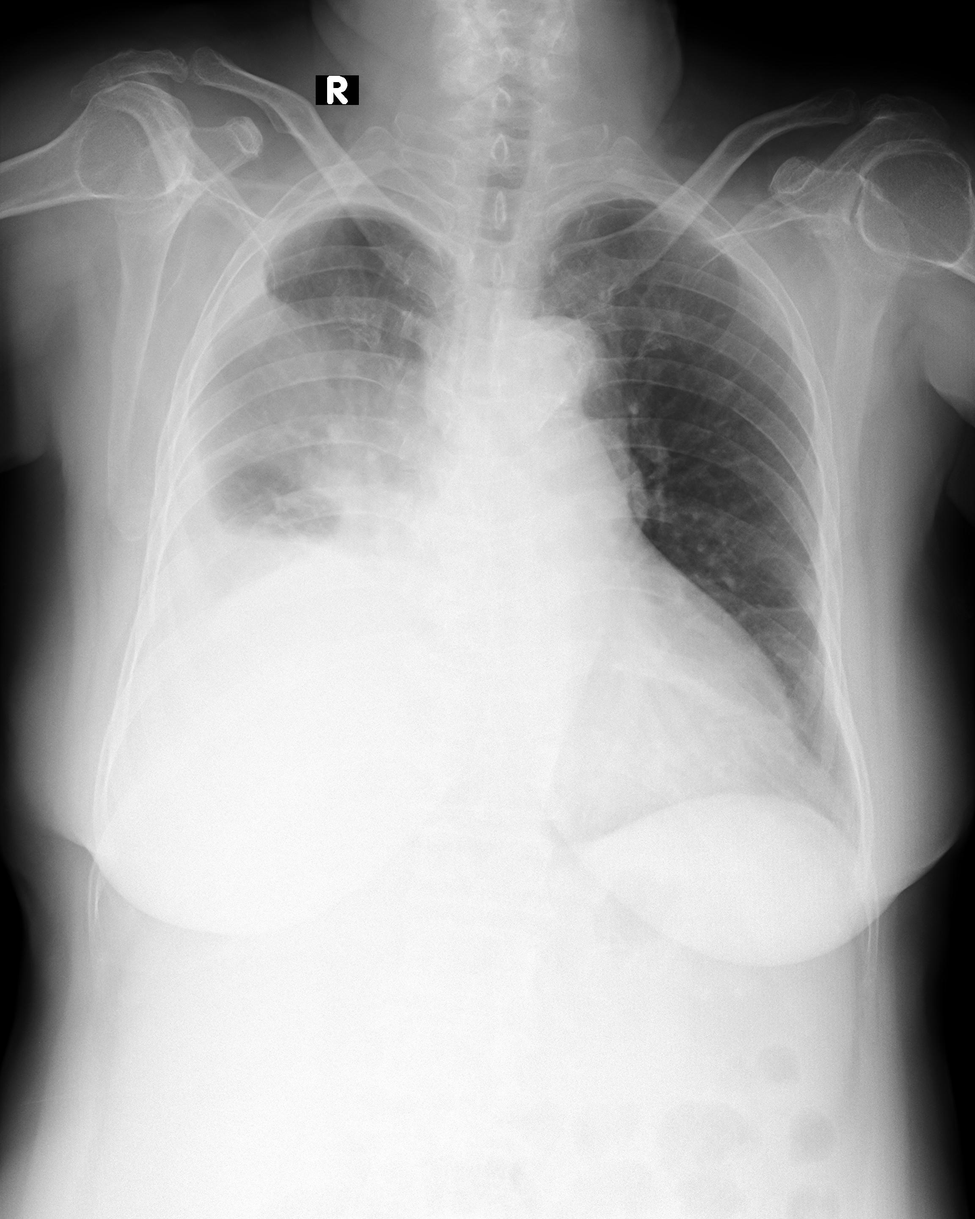Aortic enlargement: (491, 314, 636, 491)
Cardiomegaly: (339, 567, 795, 832)
